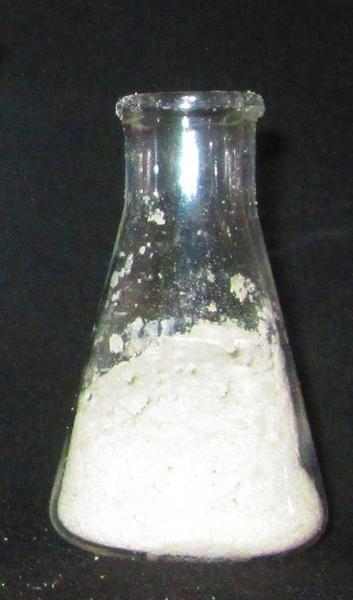Titrarion: (36, 66, 333, 555)
